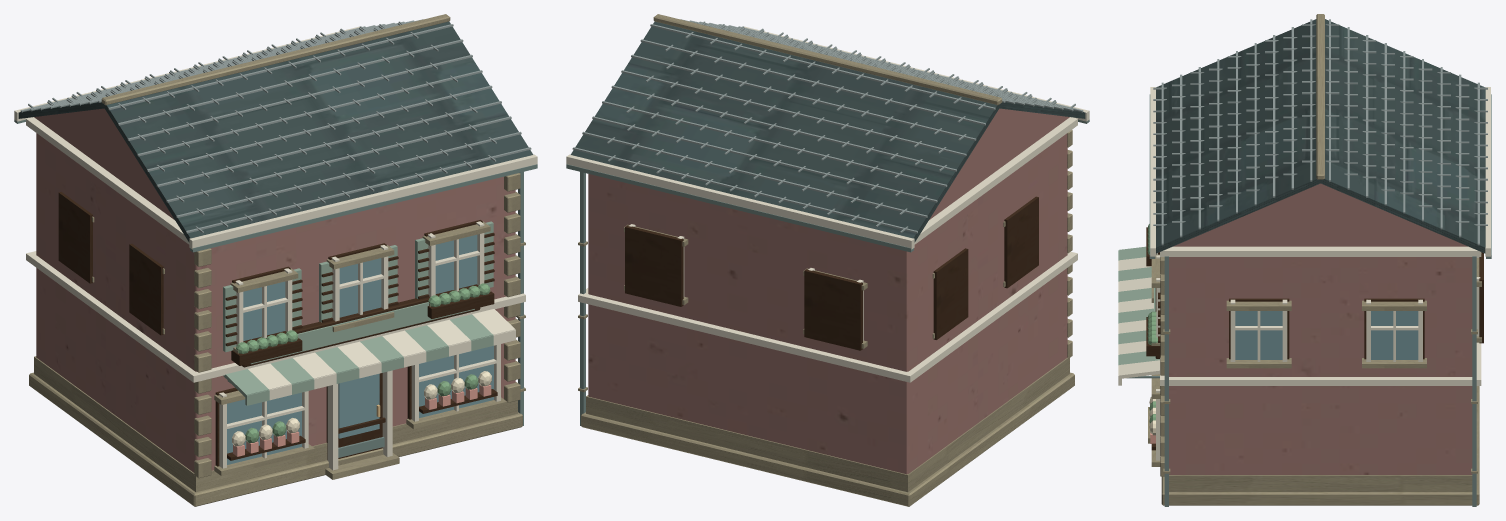
The model's file is north_florist.glb.
3 renders of one model, left to right at view 1: azimuth 30°, elevation 25°; view 2: azimuth 150°, elevation 25°; view 3: azimuth 270°, elevation 25°, orthographic. The views are drawn at different scales.
Visible parts, largest first — view 1: north_florist / north_florist painted plaster, north_florist / slate roof, north_florist / limestone, north_florist / ivory joinery, north_florist / slate tile edge, north_florist / oiled walnut, north_florist / blue grey opaque glass, north_florist / sage canopy, north_florist / aged dark bronze, north_florist / window box leaves, north_florist / terracotta flowers, north_florist / paper cream; view 2: north_florist / north_florist painted plaster, north_florist / slate roof, north_florist / limestone, north_florist / slate tile edge, north_florist / oiled walnut, north_florist / ivory joinery, north_florist / aged dark bronze; view 3: north_florist / north_florist painted plaster, north_florist / slate roof, north_florist / limestone, north_florist / slate tile edge, north_florist / ivory joinery, north_florist / blue grey opaque glass, north_florist / aged dark bronze, north_florist / sage canopy, north_florist / oiled walnut, north_florist / window box leaves.
Part boxes in pixels (<box>): north_florist / north_florist painted plaster: <box>34,108,515,472</box>; north_florist / slate roof: <box>18,21,533,242</box>; north_florist / limestone: <box>29,14,525,506</box>; north_florist / ivory joinery: <box>14,26,537,470</box>; north_florist / slate tile edge: <box>20,19,531,233</box>; north_florist / oiled walnut: <box>58,192,497,466</box>; north_florist / blue grey opaque glass: <box>227,234,493,464</box>; north_florist / sage canopy: <box>223,221,493,405</box>; north_florist / aged dark bronze: <box>14,119,537,457</box>; north_florist / window box leaves: <box>236,283,489,443</box>; north_florist / terracotta flowers: <box>233,384,491,456</box>; north_florist / paper cream: <box>232,371,491,446</box>; north_florist / north_florist painted plaster: <box>588,108,1069,474</box>; north_florist / slate roof: <box>570,21,1085,242</box>; north_florist / limestone: <box>578,14,1074,506</box>; north_florist / slate tile edge: <box>572,19,1083,233</box>; north_florist / oiled walnut: <box>625,196,1038,350</box>; north_florist / ivory joinery: <box>566,26,1089,382</box>; north_florist / aged dark bronze: <box>566,119,1089,425</box>; north_florist / north_florist painted plaster: <box>1169,183,1472,474</box>; north_florist / slate roof: <box>1156,19,1485,253</box>; north_florist / limestone: <box>1148,14,1481,505</box>; north_florist / slate tile edge: <box>1153,19,1487,245</box>; north_florist / ivory joinery: <box>1118,87,1490,460</box>; north_florist / blue grey opaque glass: <box>1235,311,1418,359</box>; north_florist / aged dark bronze: <box>1127,94,1491,506</box>; north_florist / sage canopy: <box>1118,246,1159,365</box>; north_florist / oiled walnut: <box>1146,227,1483,450</box>; north_florist / window box leaves: <box>1147,224,1157,423</box>.
Bounding box in the file's own units: 9.94 × 9.6 × 9.7.
13 materials, 4 textured.
